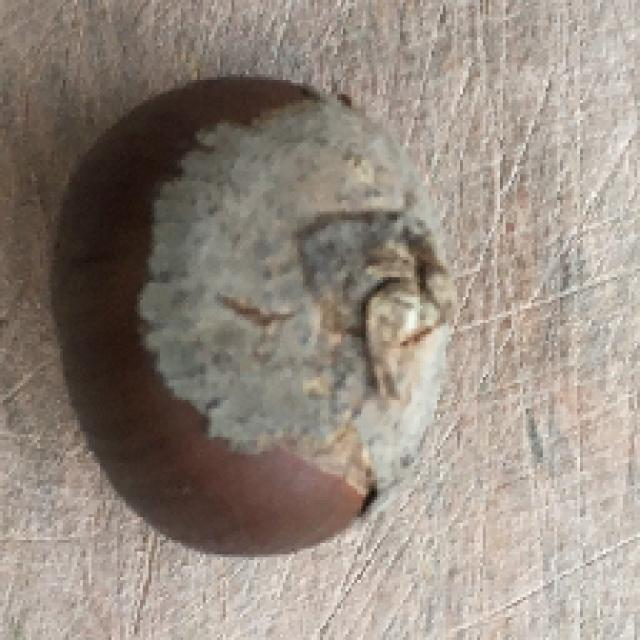damagedHazelnut: (42, 70, 445, 560)
